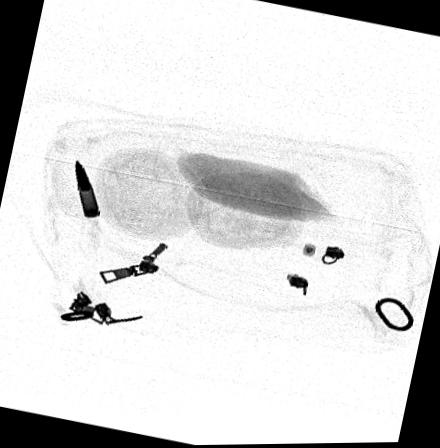Bullet: (71, 156, 101, 218)
